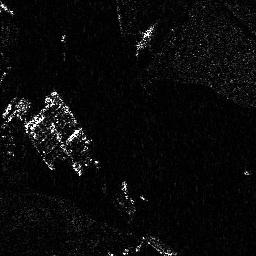ship: (142, 234, 175, 256), (136, 22, 159, 50)
